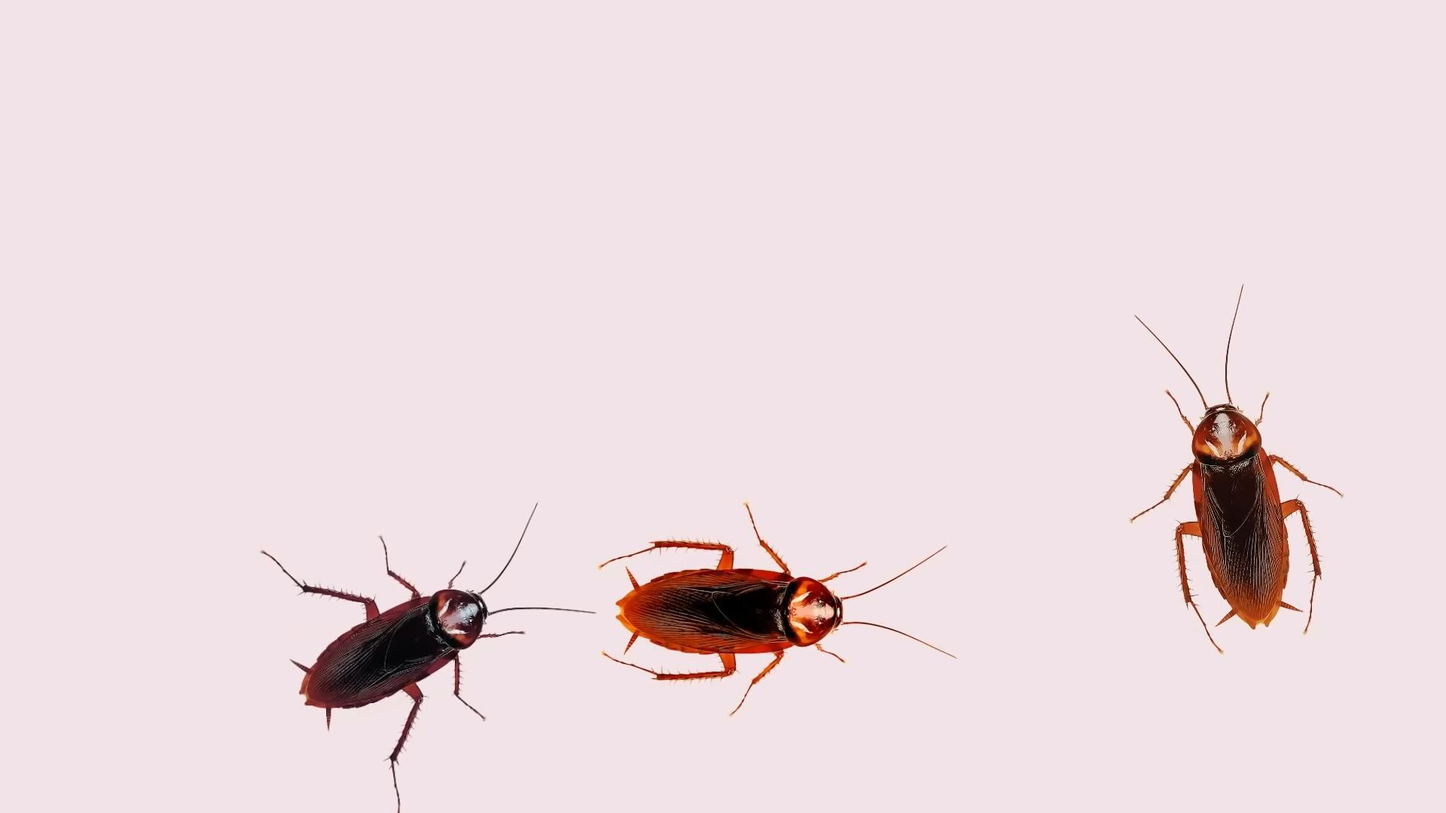cockroach: (234, 508, 559, 793), (1110, 299, 1337, 654), (598, 505, 941, 718)
